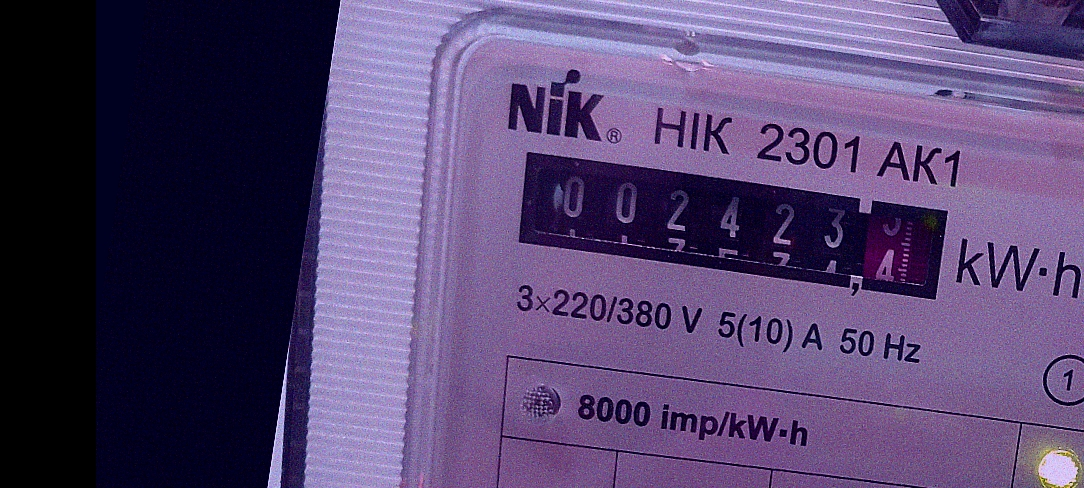0: (558, 171, 592, 222), (611, 179, 643, 227)
2: (662, 185, 695, 235), (769, 200, 799, 249)
3: (820, 204, 850, 252), (880, 213, 905, 239)
4: (717, 193, 746, 241), (872, 243, 902, 284)
screen: (502, 135, 965, 319)
